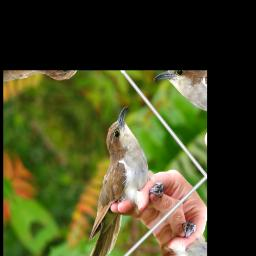Cuckoo: (23, 104, 188, 256)
